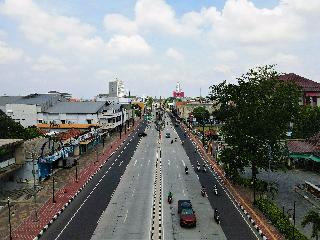mobil: (178, 199, 198, 229)
motor: (212, 206, 222, 224), (211, 184, 221, 198), (166, 190, 174, 204), (200, 186, 208, 198), (185, 166, 191, 178)
